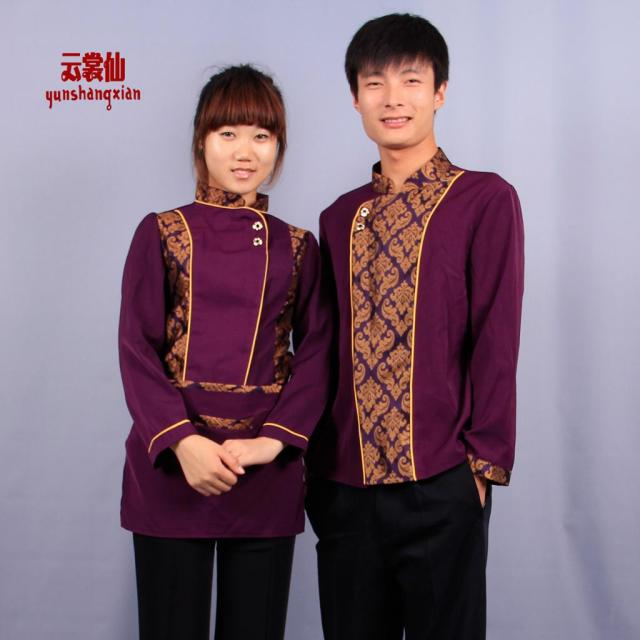nomask: (357, 45, 435, 144), (204, 100, 278, 191)
